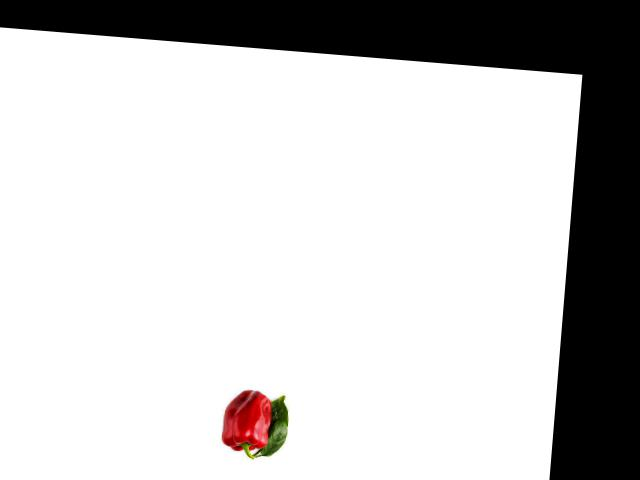bell_pepper: (214, 385, 276, 459)
